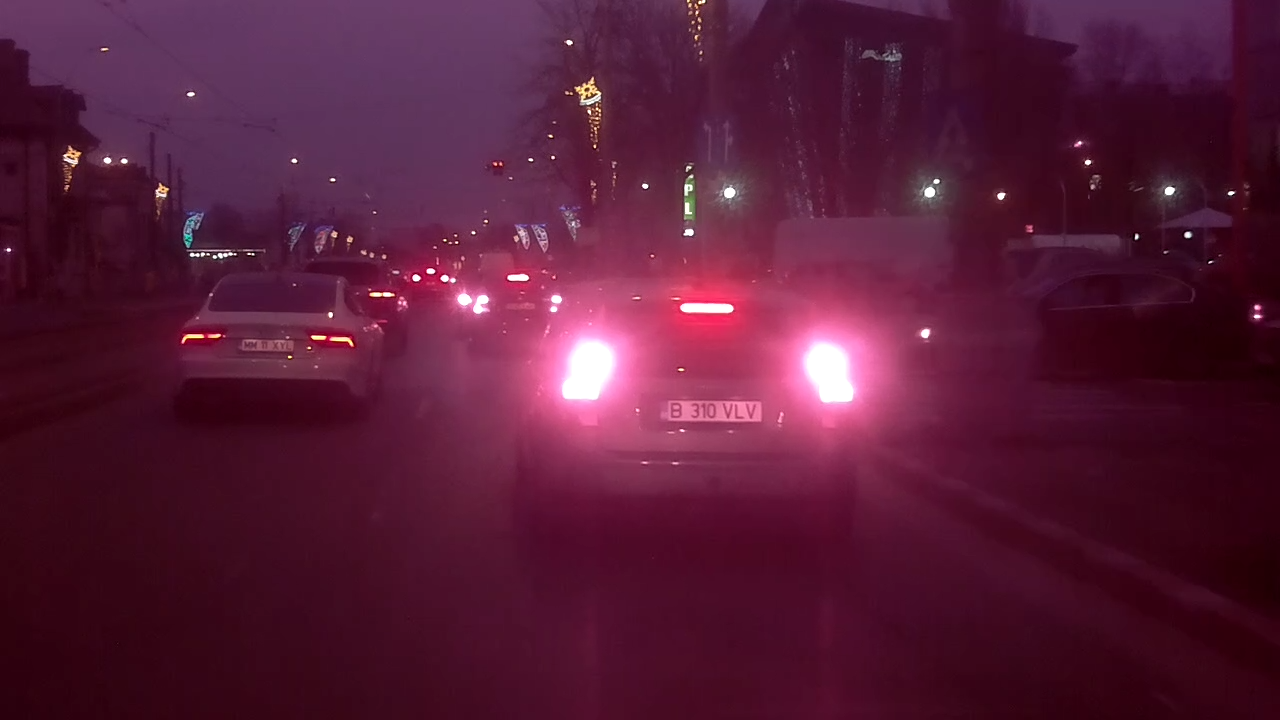license-plate: (654, 395, 766, 427), (235, 335, 296, 353)
